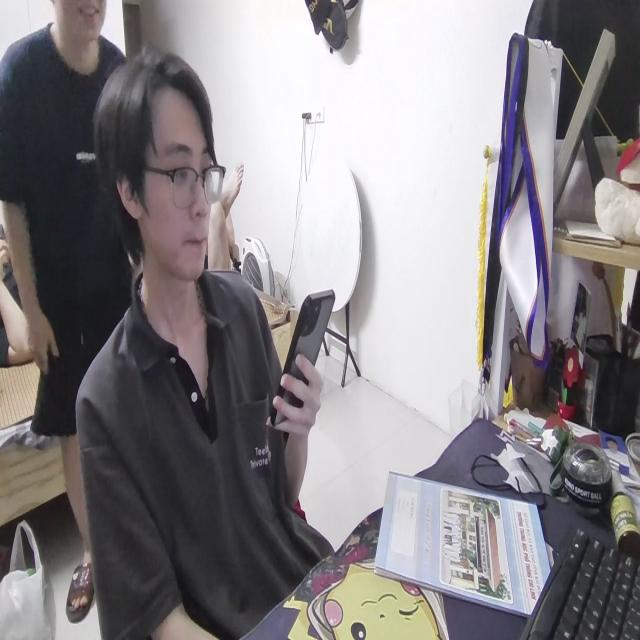book: (374, 463, 552, 616)
extra_person: (0, 0, 142, 631)
phone: (266, 287, 337, 434)
student: (79, 46, 328, 640)
